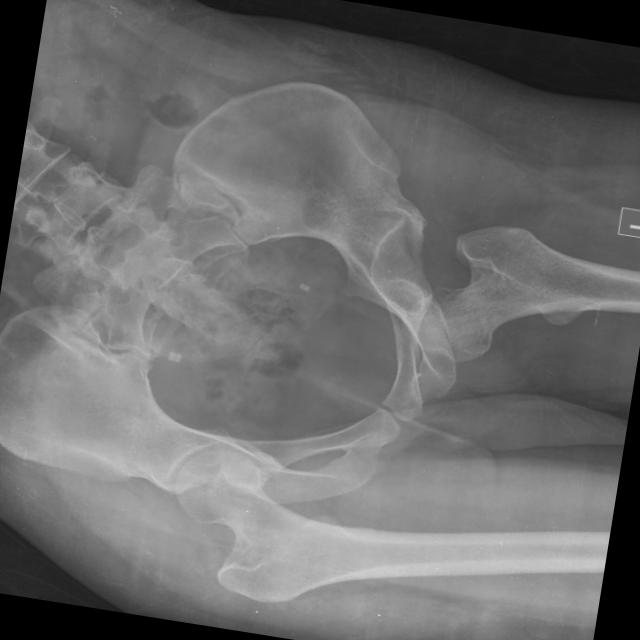left-dislocation: (412, 224, 640, 361)
normal-right: (176, 449, 437, 603)
